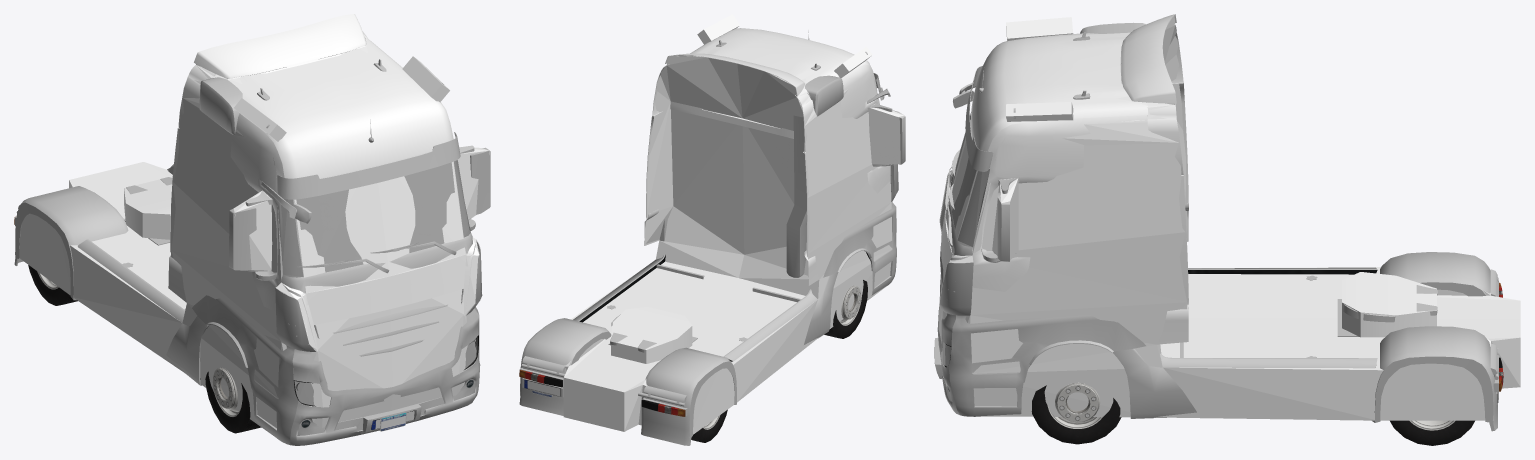
File: Truck01.FBX
3 views of the same model, side by side, from view 1: azimuth 30°, elevation 25°; view 2: azimuth 150°, elevation 25°; view 3: azimuth 270°, elevation 25° (orthographic). The views are drawn at different scales.
Visible parts, largest first — view 1: Truck01_Col, Paint_LOD0, Body_LOD0, Windows_LOD0, WheelFrontRight_LOD0, WheelRearRight_LOD0; view 2: Truck01_Col, Body_LOD0, Paint_LOD0, WheelFrontRight_LOD0, WheelRearRight_LOD0, PlateBackTypeEU_LOD0; view 3: Truck01_Col, Body_LOD0, Paint_LOD0, WheelFrontLeft_LOD0, Windows_LOD0, WheelRearLeft_LOD0.
Part boxes in pixels (x1=…): Truck01_Col: x1=15, y1=34, x2=489, y2=438; Paint_LOD0: x1=168, y1=14, x2=475, y2=351; Body_LOD0: x1=14, y1=59, x2=490, y2=445; Windows_LOD0: x1=279, y1=160, x2=477, y2=405; WheelFrontRight_LOD0: x1=205, y1=367, x2=261, y2=433; WheelRearRight_LOD0: x1=28, y1=265, x2=77, y2=305; Truck01_Col: x1=520, y1=14, x2=904, y2=437; Body_LOD0: x1=519, y1=30, x2=905, y2=445; Paint_LOD0: x1=644, y1=28, x2=890, y2=285; WheelFrontRight_LOD0: x1=824, y1=280, x2=867, y2=338; WheelRearRight_LOD0: x1=691, y1=409, x2=727, y2=442; PlateBackTypeEU_LOD0: x1=522, y1=378, x2=563, y2=397; Truck01_Col: x1=938, y1=15, x2=1520, y2=420; Body_LOD0: x1=934, y1=22, x2=1498, y2=431; Paint_LOD0: x1=941, y1=14, x2=1188, y2=344; WheelFrontLeft_LOD0: x1=1031, y1=382, x2=1121, y2=444; Windows_LOD0: x1=945, y1=112, x2=989, y2=366; WheelRearLeft_LOD0: x1=1390, y1=420, x2=1474, y2=445.
Size of what is drawn, in the model's own units: 114 by 145 by 220.
